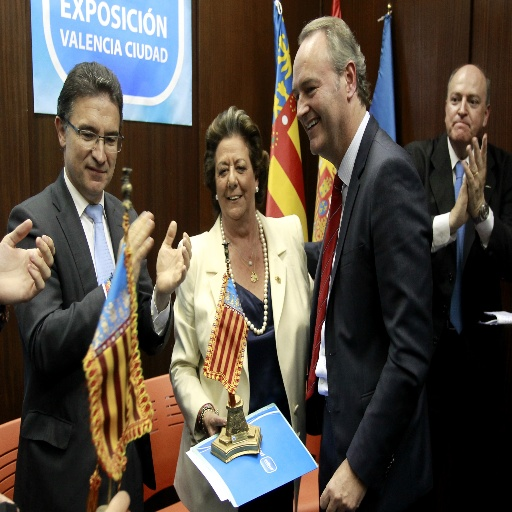hand: (0, 218, 56, 309), (154, 218, 193, 300), (115, 207, 154, 288), (317, 457, 367, 511), (461, 129, 486, 220), (452, 163, 469, 227), (205, 408, 228, 436), (105, 488, 130, 511)
